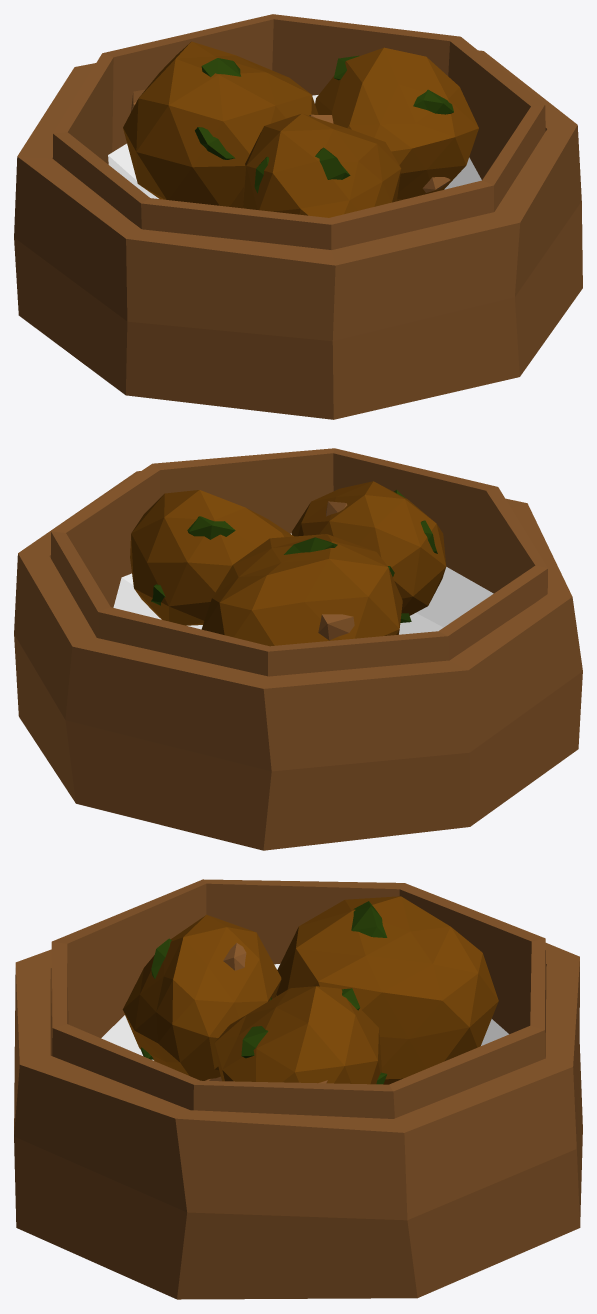
File: Beef_Ball.fbx
3 renders of one model, top to bottom at view 1: azimuth 30°, elevation 25°; view 2: azimuth 150°, elevation 25°; view 3: azimuth 270°, elevation 25°, orthographic. The views are drawn at different scales.
Visible parts, largest first — view 1: Cylinder.008; view 2: Cylinder.008; view 3: Cylinder.008.
Boxes of the visible parts, box(x1,y1,x2,y2) form: Cylinder.008: box(14, 14, 582, 419); Cylinder.008: box(14, 448, 582, 850); Cylinder.008: box(14, 879, 582, 1299).
Size of the model in its own units: 192 by 91.99 by 190.
